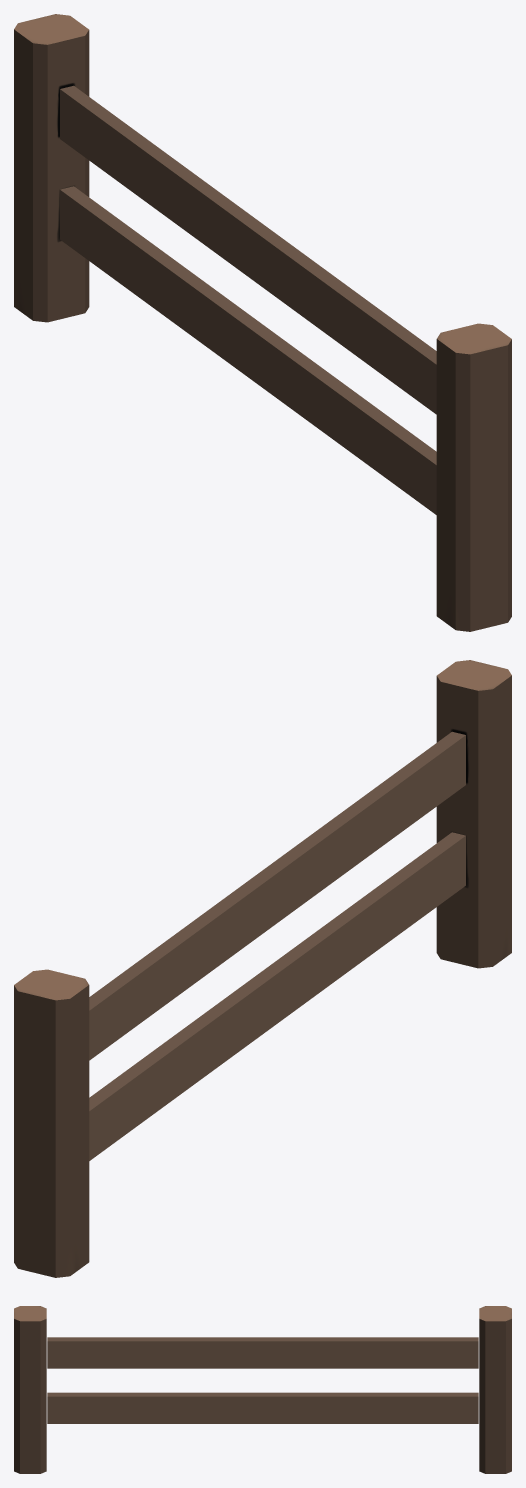
The model's file is Fence.fbx.
The picture shows the model from 3 angles, top to bottom: view 1: azimuth 30°, elevation 25°; view 2: azimuth 150°, elevation 25°; view 3: azimuth 270°, elevation 25°; orthographic projection. The views are drawn at different scales.
Parts seen in each view (by area): view 1: Cube.001, Cube; view 2: Cube.001, Cube; view 3: Cube.001, Cube.
Part boxes in pixels (<box>): Cube.001: <box>60,85,436,514</box>; Cube: <box>14,14,511,631</box>; Cube.001: <box>89,731,465,1160</box>; Cube: <box>14,660,511,1277</box>; Cube.001: <box>47,1337,478,1423</box>; Cube: <box>14,1306,511,1473</box>.
Bounding box in the file's own units: 42.37 × 200 × 591.
2 materials, 1 textured.
